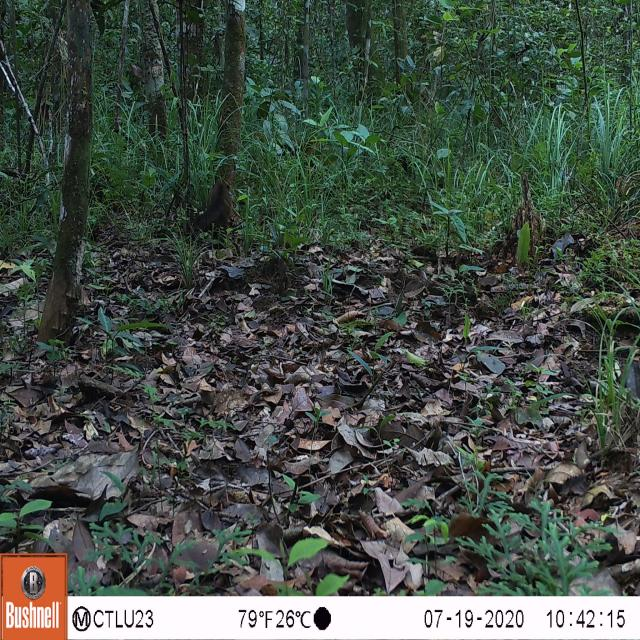South American Coati: (172, 171, 248, 251)
